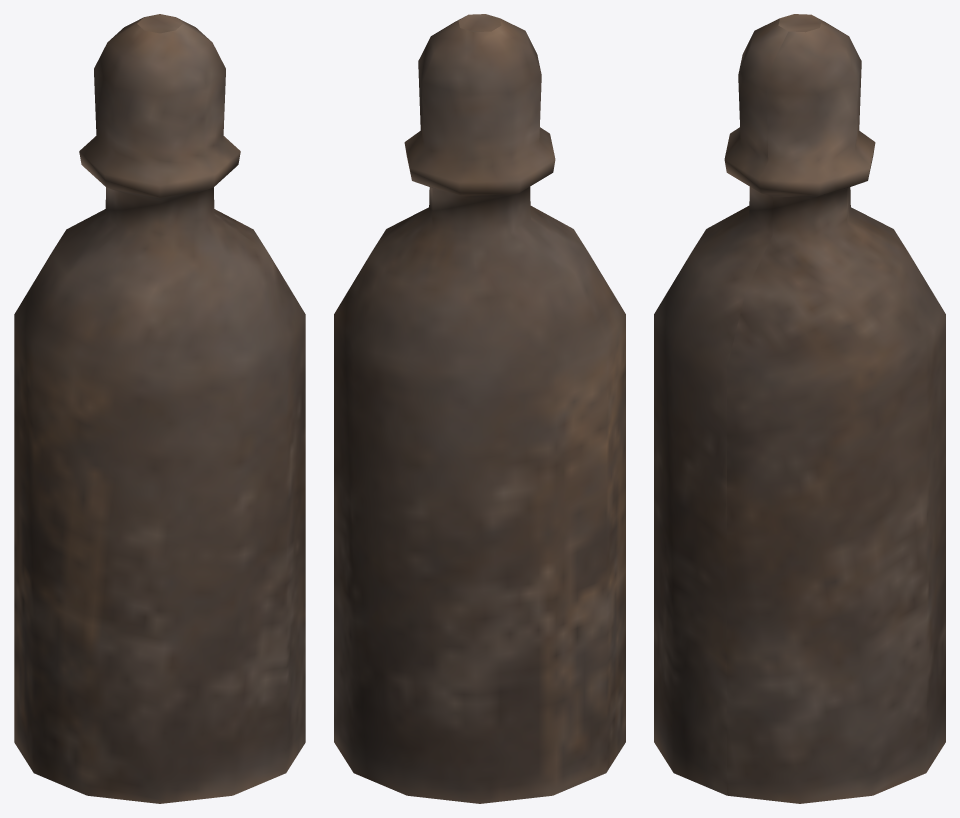
Rendered from SM_Pot_03.gltf.
3 renders of one model, left to right at view 1: azimuth 30°, elevation 25°; view 2: azimuth 150°, elevation 25°; view 3: azimuth 270°, elevation 25°, orthographic.
Visible parts, largest first — view 1: SM_Pot_03_LOD0; view 2: SM_Pot_03_LOD0; view 3: SM_Pot_03_LOD0.
Part boxes in pixels (bbox=[...]): SM_Pot_03_LOD0: bbox=[14, 14, 305, 803]; SM_Pot_03_LOD0: bbox=[334, 14, 625, 803]; SM_Pot_03_LOD0: bbox=[654, 14, 945, 803].
Size of what is drawn, in the model's own units: 0.2816 by 0.7886 by 0.2816.
1 material, 1 textured.
